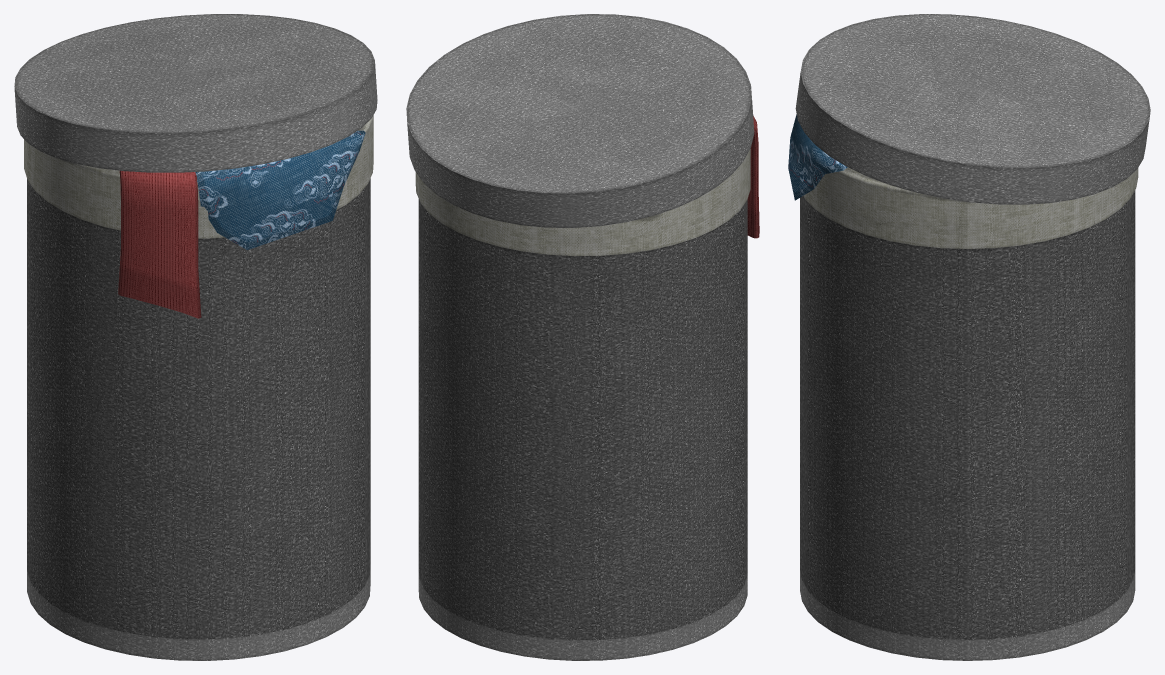
The model's file is SM_Hamper.fbx.
The picture shows the model from 3 angles, left to right: view 1: azimuth 30°, elevation 25°; view 2: azimuth 150°, elevation 25°; view 3: azimuth 270°, elevation 25°; orthographic projection. The views are drawn at different scales.
Parts seen in each view (by area): view 1: SM_Hamper_LOD0; view 2: SM_Hamper_LOD0; view 3: SM_Hamper_LOD0.
Boxes of the visible parts, <box> form: SM_Hamper_LOD0: <box>14,14,377,660</box>; SM_Hamper_LOD0: <box>406,14,759,660</box>; SM_Hamper_LOD0: <box>788,14,1150,660</box>.
Bounding box in the file's own units: 60.78 × 62.47 × 98.64.
